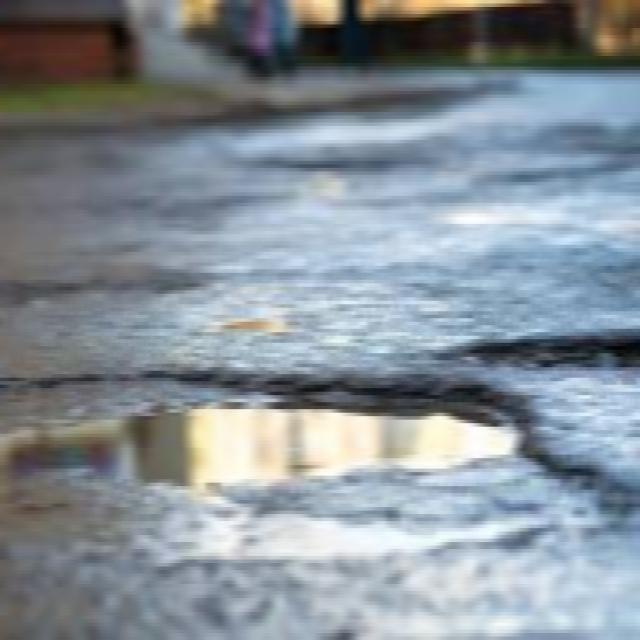Pothole: (0, 372, 554, 511), (427, 330, 640, 378), (194, 303, 304, 343)
